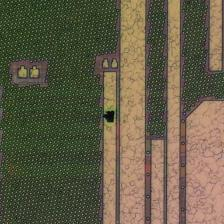PIQ PARTICLE: (100, 108, 120, 128)
